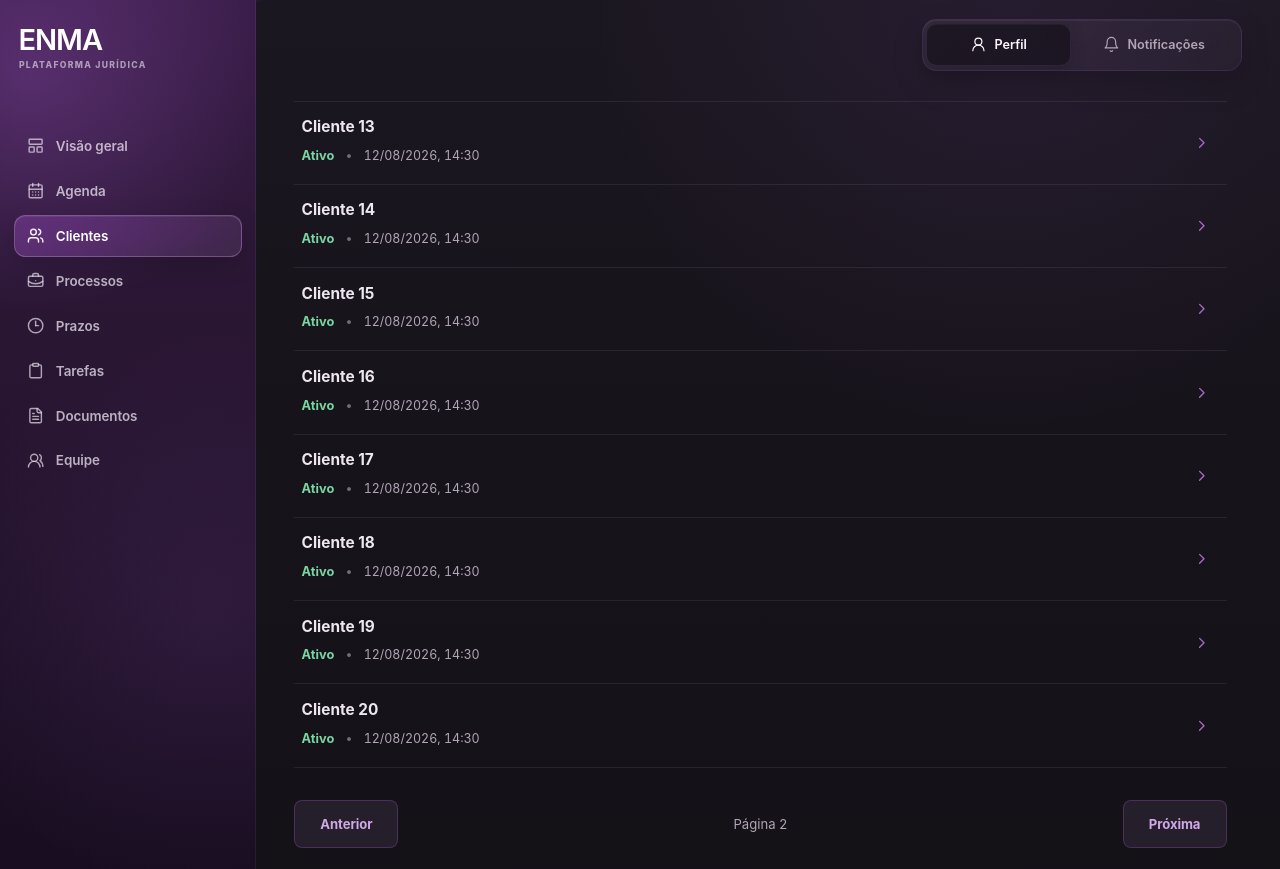
Clients D1 flow › ClientPagination_UrlPage_RequestsBackendPageAndNavigatesWithUrlState
The width and height of the screenshot is (1280, 869).
(page scrolled)
Click the button with aria-label "Próxima página de clientes" at {"x": 1175, "y": 824}, box [1123,800,1227,848]
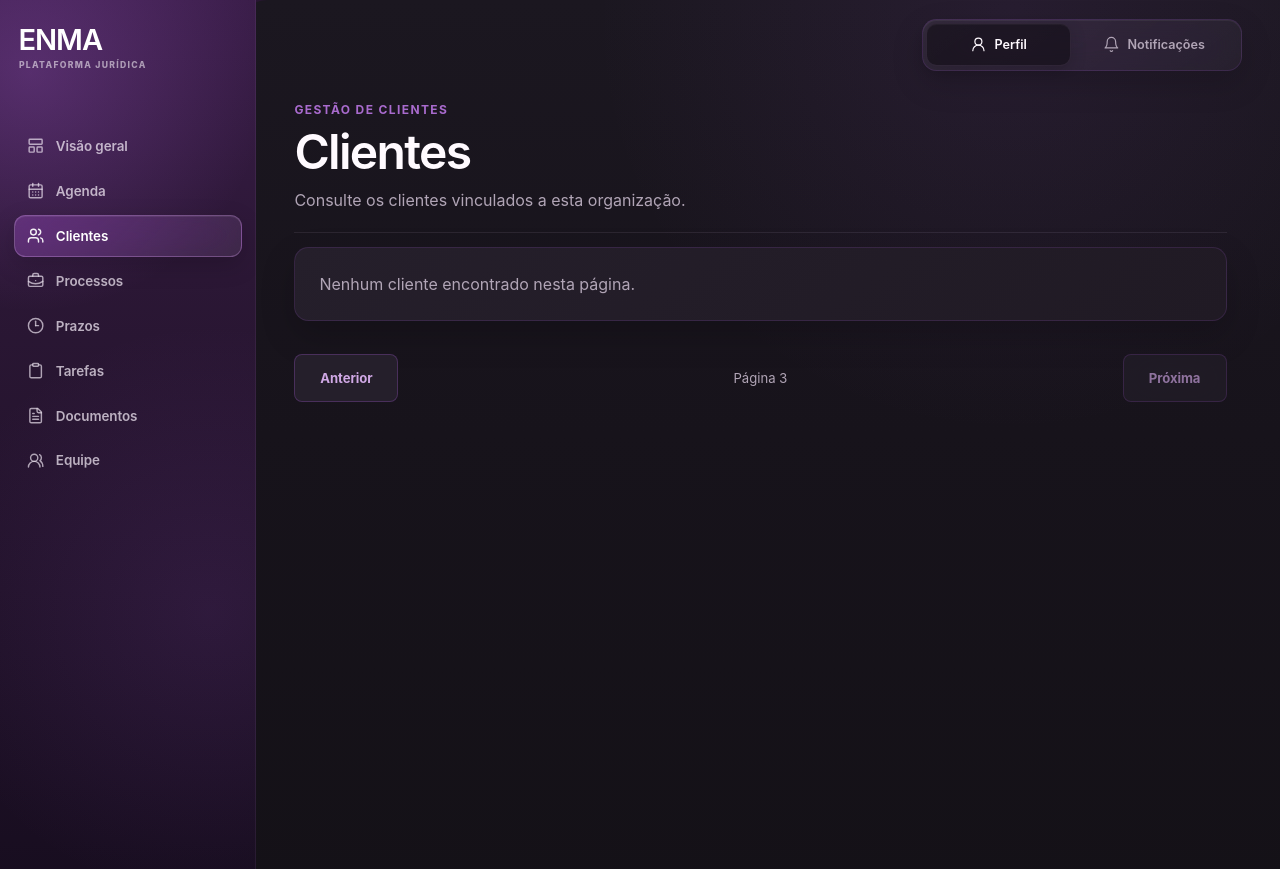
Expected: the text "Nenhum cliente encontrado nesta página." is shown, [319,274,635,294]
Click the button with aria-label "Página anterior de clientes" at {"x": 346, "y": 378}, box [294,354,398,402]
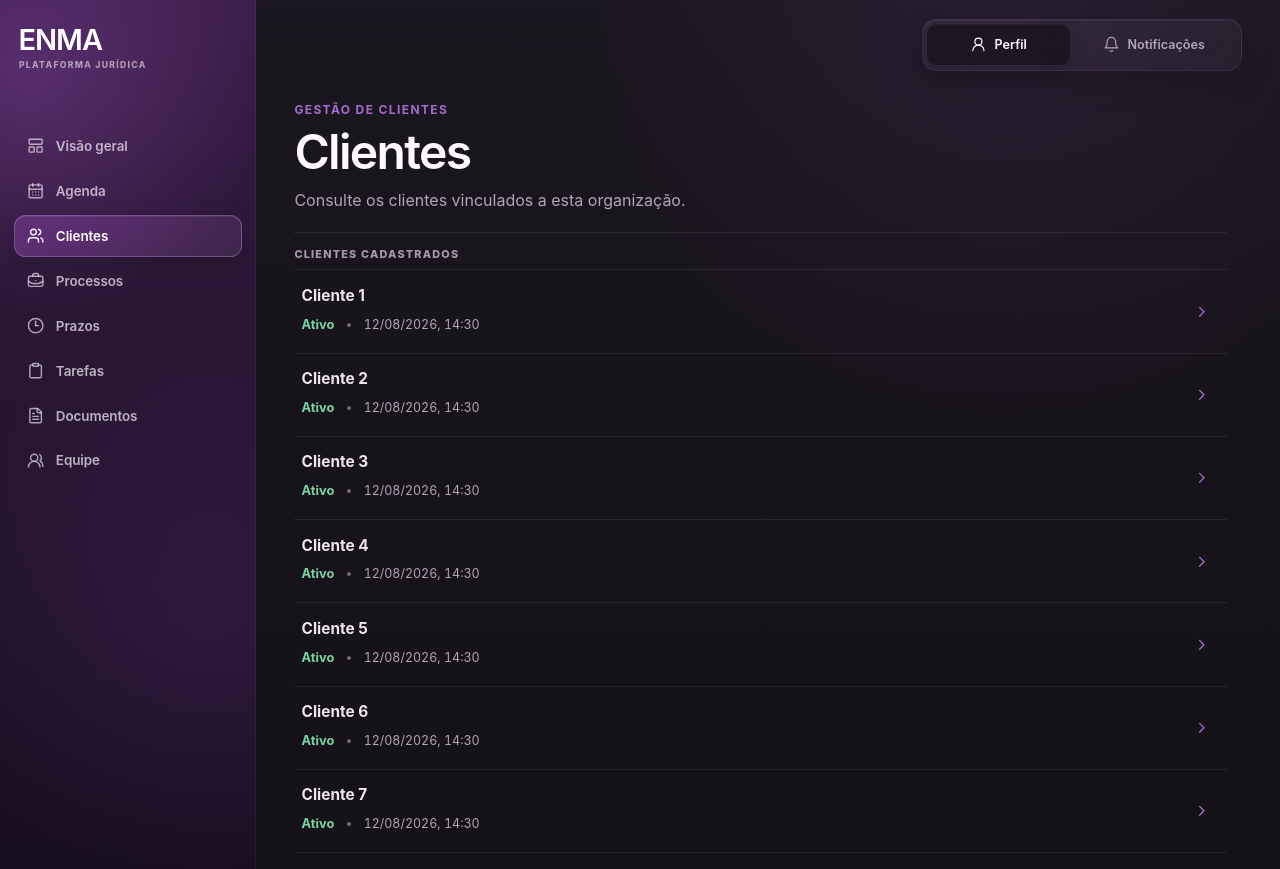
Expected: the text "Cliente 1" is shown, [302,286,365,305]
